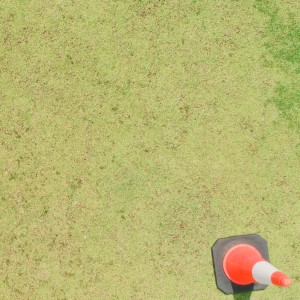traffic cone: (211, 232, 290, 295)
